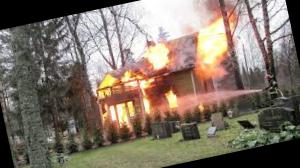Fire: (142, 38, 188, 116), (189, 13, 244, 68)
